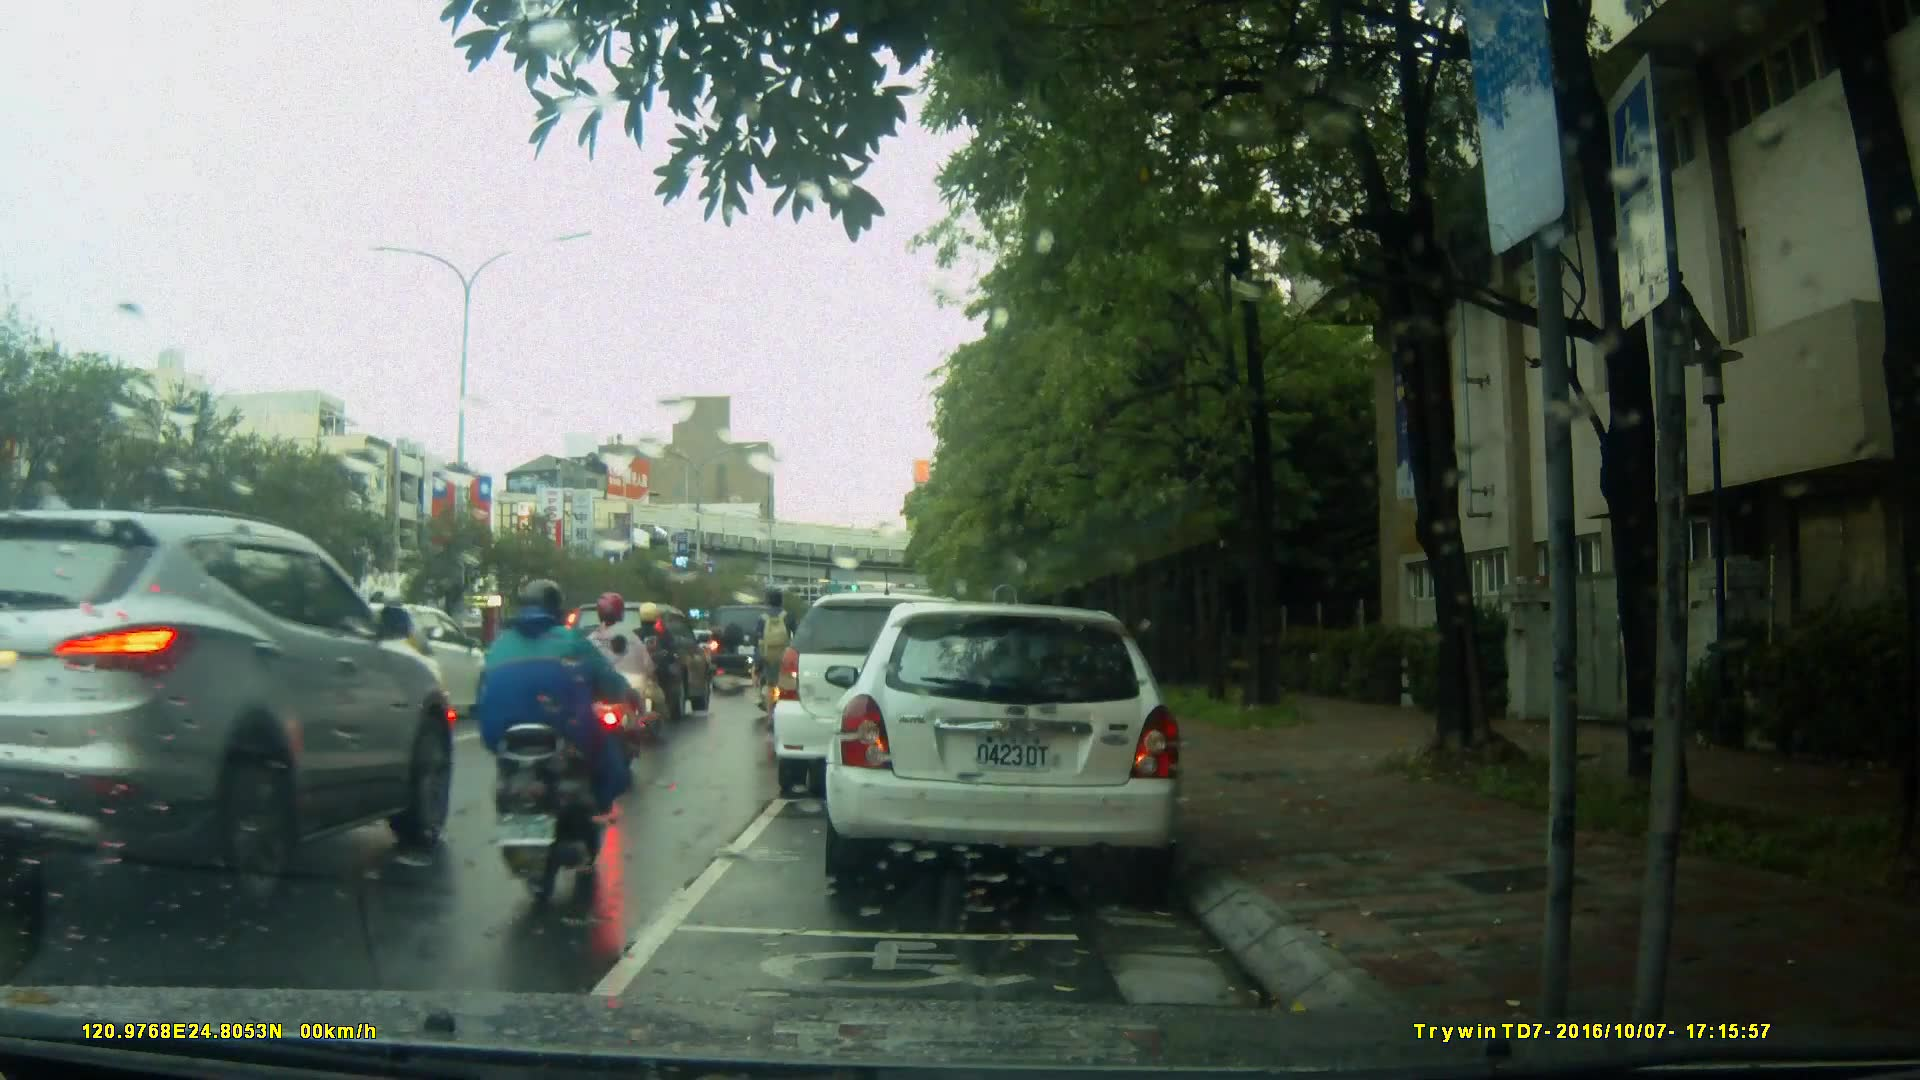rider: (484, 575, 615, 905), (580, 591, 653, 795), (359, 584, 433, 760), (625, 607, 691, 746), (751, 587, 802, 744)
vehicle: (1, 504, 459, 925), (822, 604, 1188, 883), (774, 595, 995, 802), (560, 596, 720, 721)
